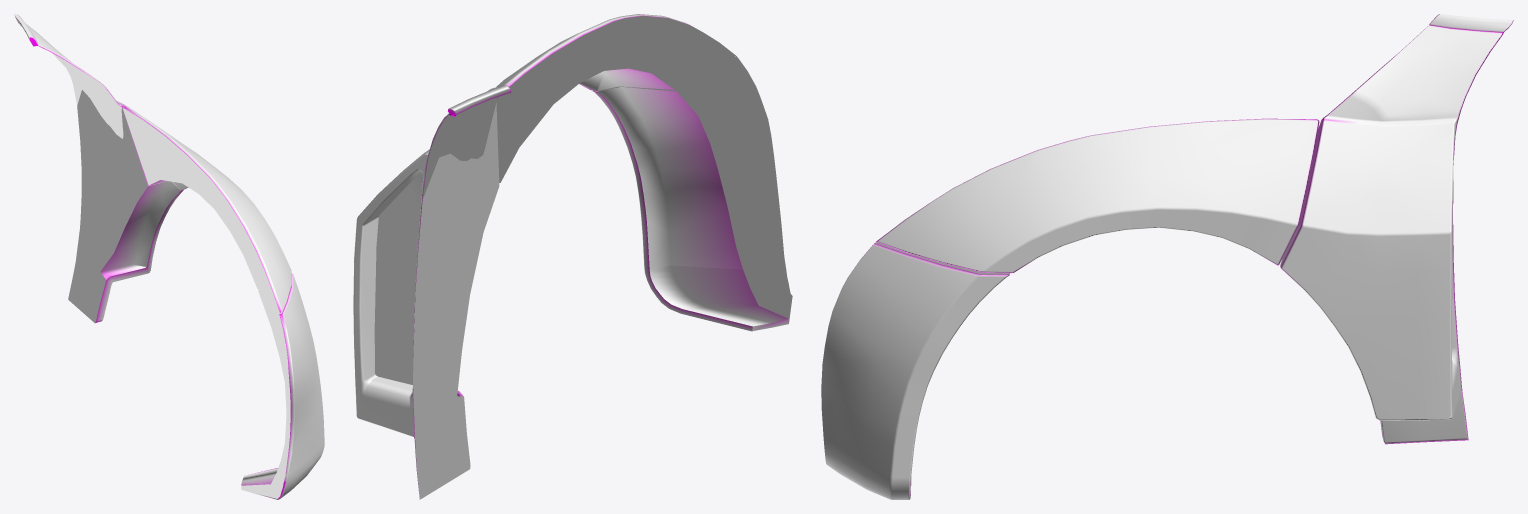
Rendered from Car_Mini_CountrymanJCW_2017_FenderFL_SetC_AltB.fbx.
3 renders of one model, left to right at view 1: azimuth 30°, elevation 25°; view 2: azimuth 150°, elevation 25°; view 3: azimuth 270°, elevation 25°, orthographic. The views are drawn at different scales.
Parts seen in each view (by area): view 1: FenderFL 6; view 2: FenderFL 6; view 3: FenderFL 6.
Boxes of the visible parts, x1,y1,x2,y2 form: FenderFL 6: [14, 14, 324, 499]; FenderFL 6: [353, 14, 792, 499]; FenderFL 6: [821, 14, 1513, 499].
Size of the model in its own units: 0.281 by 0.8223 by 1.19.
